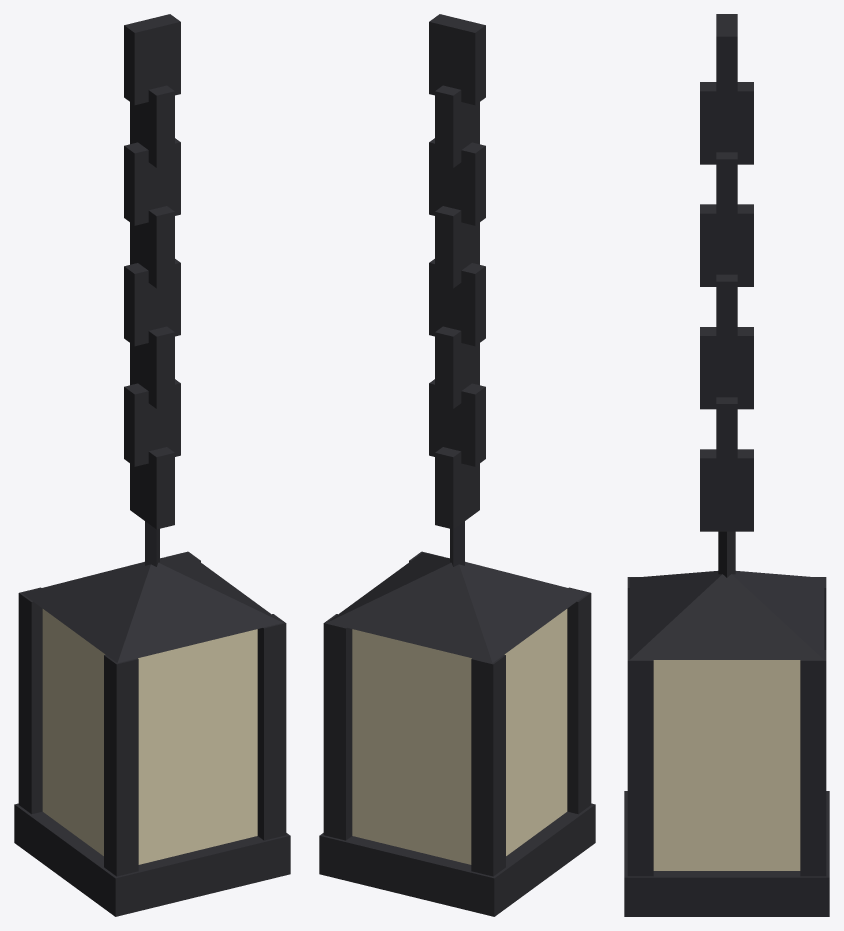
File: HangingLantern.fbx
3 views of the same model, side by side, from view 1: azimuth 30°, elevation 25°; view 2: azimuth 150°, elevation 25°; view 3: azimuth 270°, elevation 25° (orthographic).
Parts seen in each view (by area): view 1: HangingLantern; view 2: HangingLantern; view 3: HangingLantern.
Boxes of the visible parts, x1=… form: HangingLantern: x1=14, y1=14, x2=290, y2=916; HangingLantern: x1=319, y1=14, x2=595, y2=916; HangingLantern: x1=624, y1=14, x2=829, y2=916.
Bounding box in the file's own units: 0.228 × 1.04 × 0.228.
